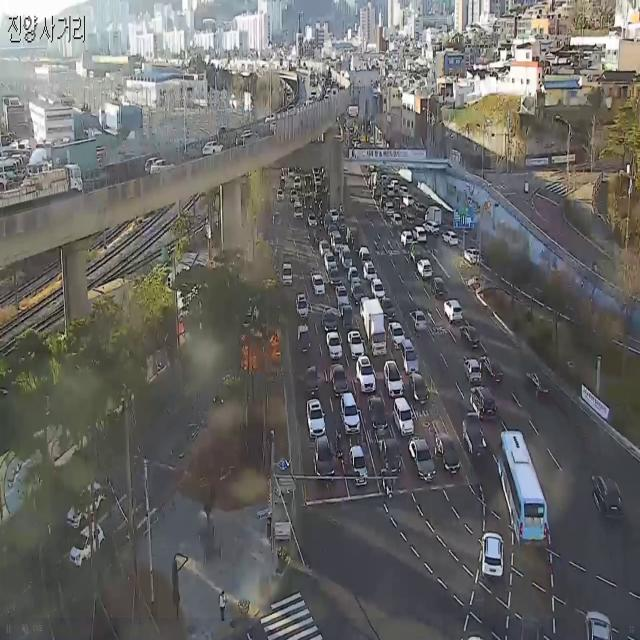car: (500, 427, 550, 565)
motorcycle: (589, 451, 625, 524), (59, 480, 115, 523), (70, 525, 107, 583), (352, 443, 380, 499), (482, 528, 506, 592), (438, 427, 463, 485), (464, 412, 486, 473), (406, 438, 431, 491), (411, 363, 435, 418), (584, 609, 626, 640), (198, 130, 233, 167), (397, 396, 427, 430), (367, 390, 389, 434), (313, 440, 333, 488), (145, 153, 180, 179), (356, 354, 376, 398), (338, 396, 358, 436), (382, 356, 399, 400), (474, 385, 499, 414), (401, 336, 418, 374), (305, 400, 326, 427), (332, 364, 351, 392), (324, 324, 340, 357), (464, 323, 480, 356), (540, 378, 552, 417), (300, 369, 316, 397), (485, 352, 499, 384), (347, 328, 361, 359), (341, 300, 356, 328), (442, 294, 457, 322), (314, 267, 326, 297), (465, 351, 473, 395), (402, 230, 414, 255), (433, 271, 444, 298), (416, 255, 428, 279), (412, 304, 426, 324), (346, 266, 361, 282), (340, 276, 347, 306), (393, 320, 402, 342), (300, 294, 308, 308), (385, 304, 390, 316), (372, 277, 378, 286), (359, 286, 364, 295)
truck: (23, 129, 118, 191), (0, 162, 85, 221), (382, 430, 406, 506), (366, 299, 382, 362)
